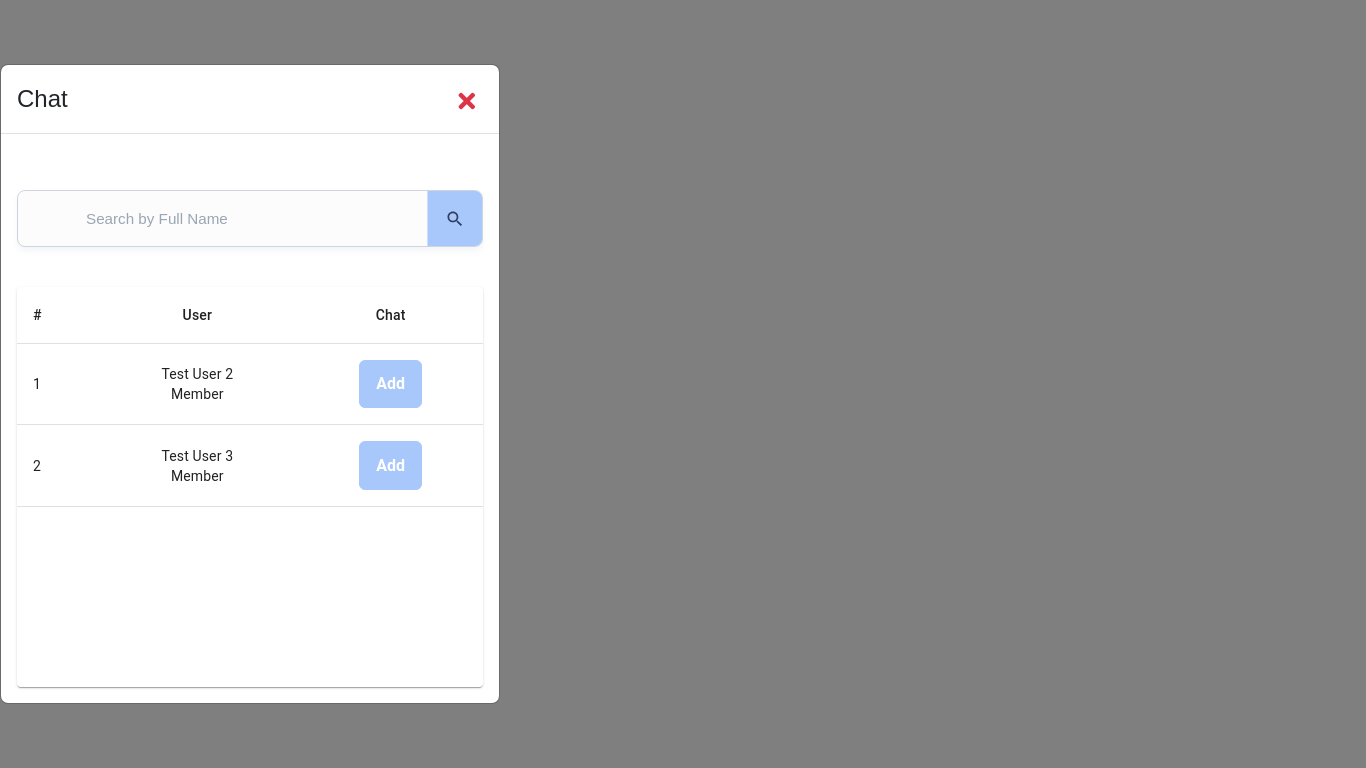
CreateDirectChatModal › should allow searching for a user
Step 1. Type "Test User 2" into the search field with test id "searchUser" → {"x": 214, "y": 218}, box [38,210,391,227]
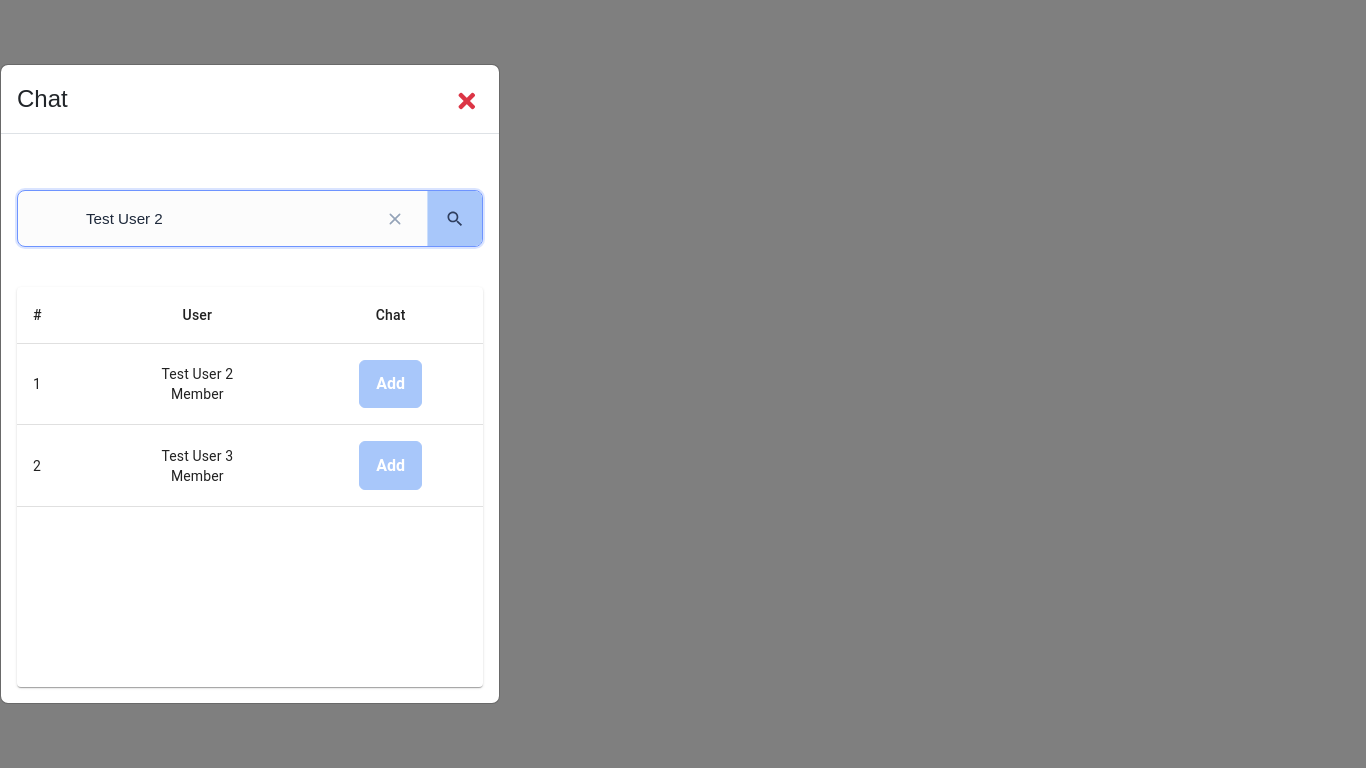
Step 2. Click the button with test id "submitBtn" → {"x": 454, "y": 218}, box [427,191,482,246]
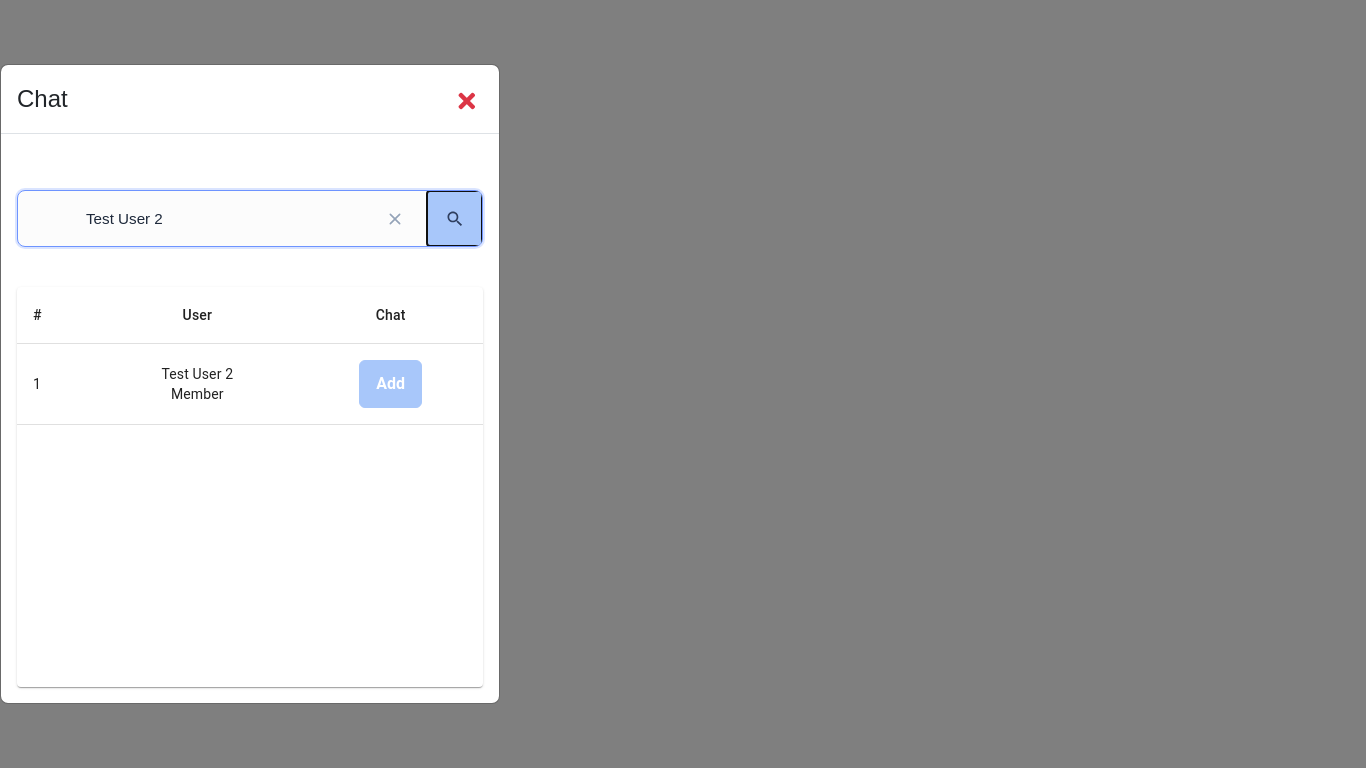
Expected: the row with test id "user" shows "Test User 2", [161,366,233,382]
Now the number of rows with test id "user" is 1, box [17,344,483,425]
Now the text "Test User 3" is gone
